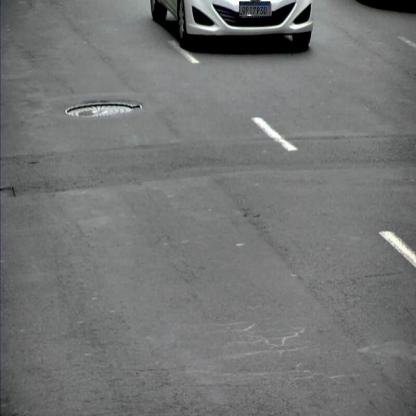PlacaM: (240, 1, 271, 17)
